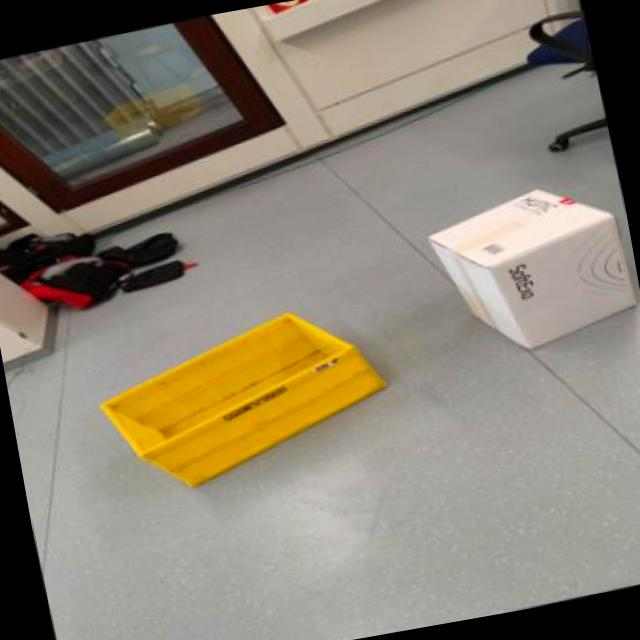box: (88, 284, 418, 519), (376, 158, 640, 404)
